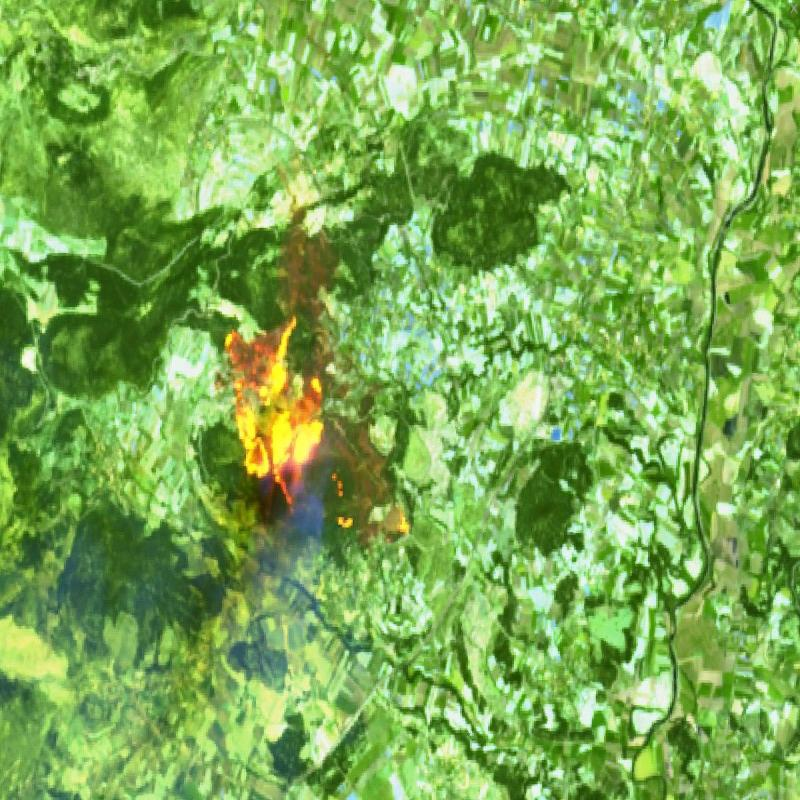fire: (210, 306, 343, 534)
